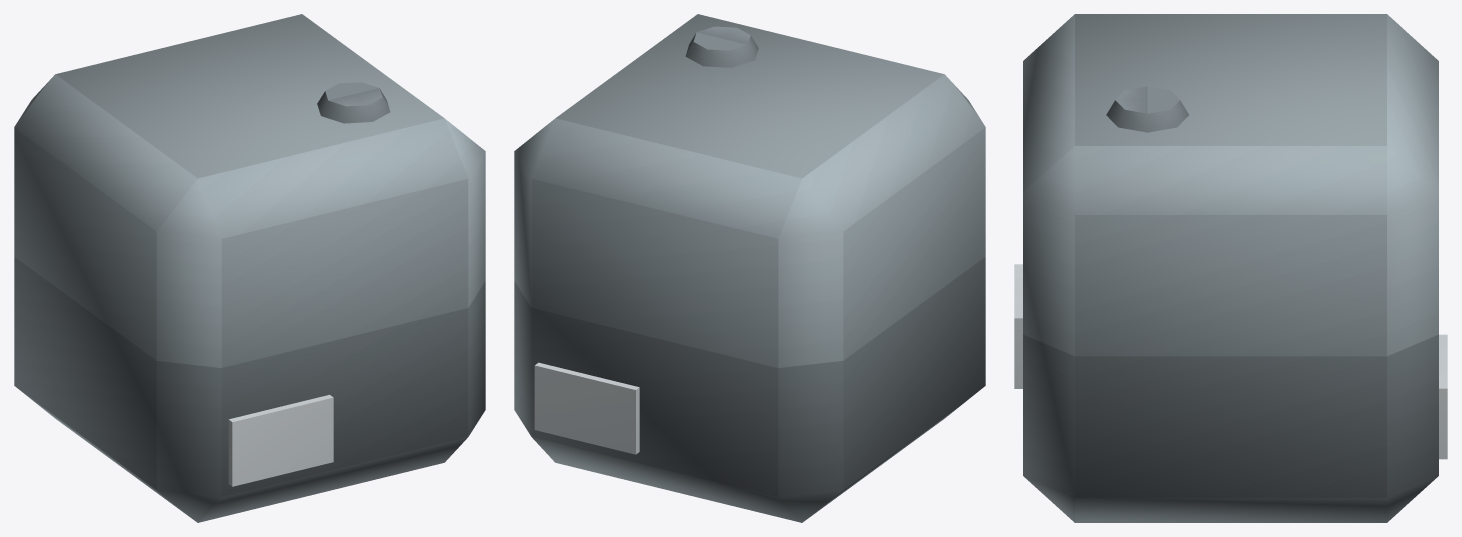
The model's file is kk_cargo_b.glb.
3 views of the same model, side by side, from view 1: azimuth 30°, elevation 25°; view 2: azimuth 150°, elevation 25°; view 3: azimuth 270°, elevation 25° (orthographic). The views are drawn at different scales.
Parts seen in each view (by area): view 1: cargo_B; view 2: cargo_B; view 3: cargo_B.
Part boxes in pixels (x1,y1,x2,y2): cargo_B: [14, 14, 485, 522]; cargo_B: [514, 14, 985, 522]; cargo_B: [1014, 14, 1447, 522].
Size of the model in its own units: 0.9615 by 1 by 1.
Materials: 1 (1 with a texture image).
